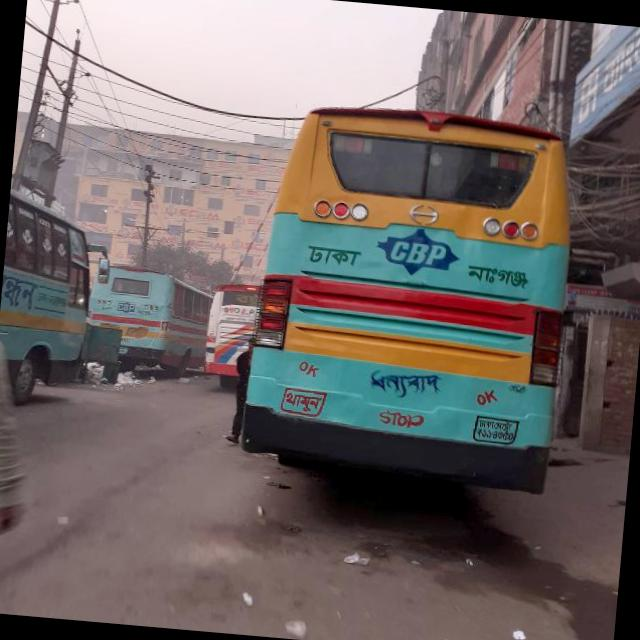bus: (234, 94, 578, 494), (0, 193, 98, 393), (84, 262, 210, 373), (199, 279, 259, 376)
